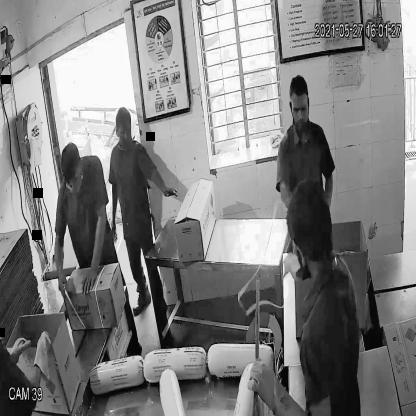no_goggles: (286, 97, 312, 119)
